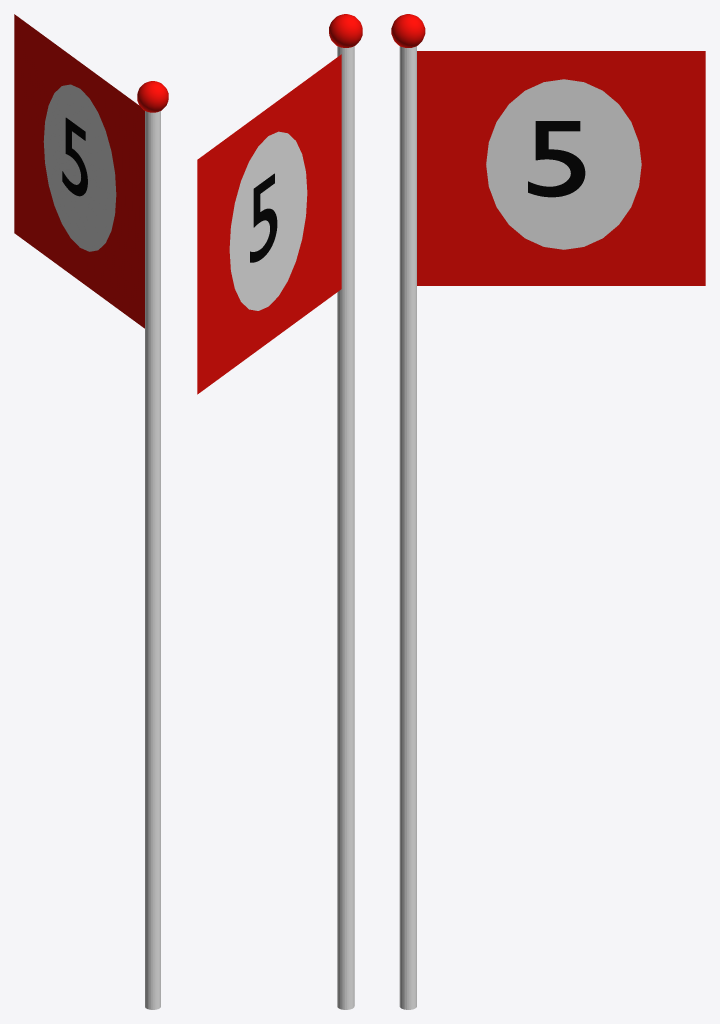
The model's file is flag5.fbx.
3 renders of one model, left to right at view 1: azimuth 30°, elevation 25°; view 2: azimuth 150°, elevation 25°; view 3: azimuth 270°, elevation 25°, orthographic. The views are drawn at different scales.
Visible parts, largest first — view 1: Cube, Cylinder.004, Circle.004, 1.008, Sphere.004; view 2: Cube, Cylinder.004, Circle.004, 1.008, Sphere.004; view 3: Cube, Circle.004, Cylinder.004, 1.009, Sphere.004.
Boxes of the visible parts, x1,y1,x2,y2 form: Cube: (14, 14, 144, 328); Cylinder.004: (145, 111, 160, 1009); Circle.004: (43, 84, 116, 251); 1.008: (62, 117, 87, 196); Sphere.004: (137, 81, 168, 112); Cube: (197, 54, 341, 394); Cylinder.004: (337, 46, 354, 1009); Circle.004: (229, 131, 307, 310); 1.008: (250, 173, 277, 262); Sphere.004: (329, 14, 362, 47); Cube: (417, 51, 705, 285); Circle.004: (486, 79, 641, 249); Cylinder.004: (399, 46, 416, 1009); 1.009: (528, 121, 585, 197); Sphere.004: (391, 14, 425, 47).
Bounding box in the file's own units: 3.94 × 127 × 36.37.
